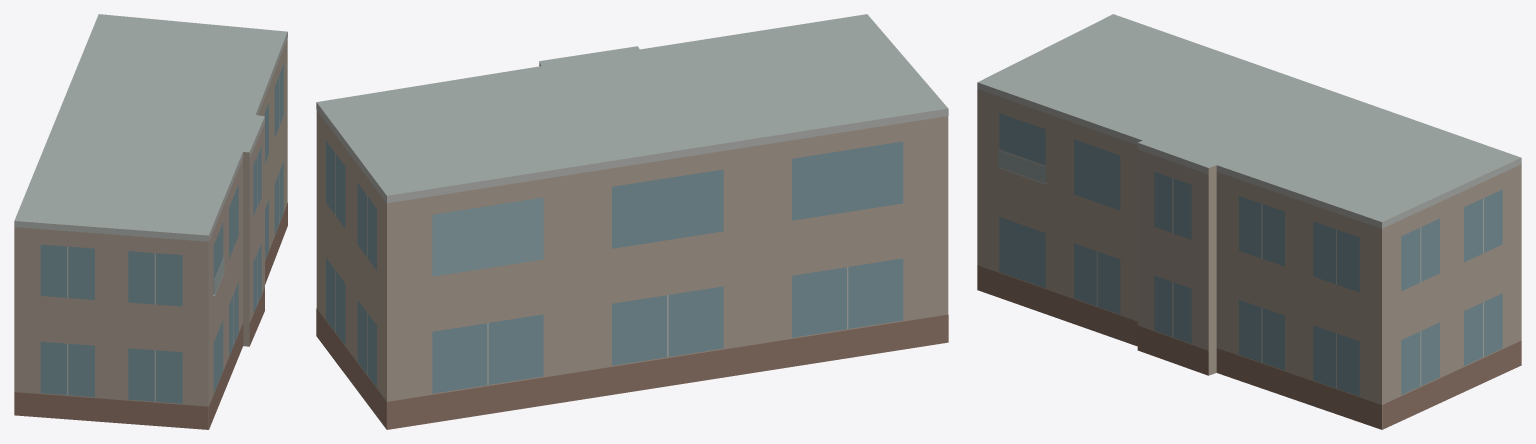
Rendered from survey-upis-32610910.glb.
3 renders of one model, left to right at view 1: azimuth 30°, elevation 25°; view 2: azimuth 150°, elevation 25°; view 3: azimuth 270°, elevation 25°, orthographic. The views are drawn at different scales.
Parts seen in each view (by area): view 1: survey-upis-32610910.tmp; view 2: survey-upis-32610910.tmp; view 3: survey-upis-32610910.tmp.
Part boxes in pixels (x1=…): survey-upis-32610910.tmp: x1=14, y1=14, x2=287, y2=429; survey-upis-32610910.tmp: x1=316, y1=14, x2=948, y2=429; survey-upis-32610910.tmp: x1=977, y1=14, x2=1521, y2=429.
Size of the model in its own units: 16.56 by 7.7 by 18.29.
